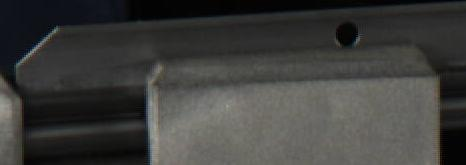cut: (14, 21, 140, 158)
holes: (334, 19, 361, 48)
